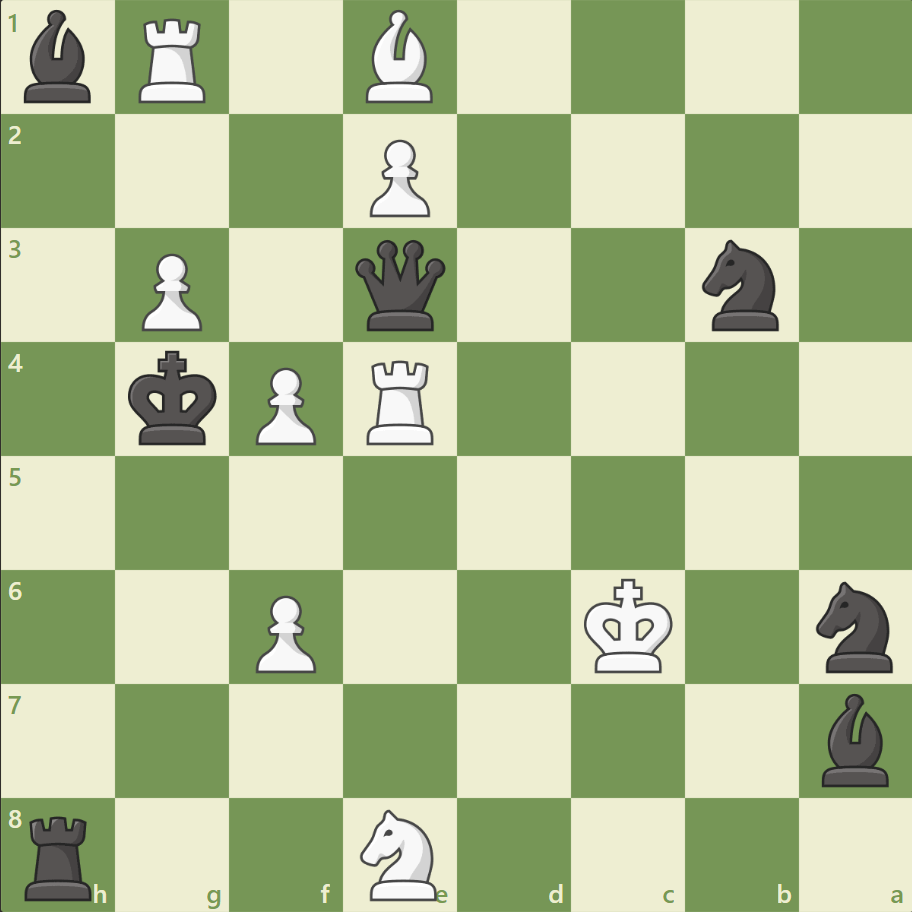B: (358, 6, 442, 109)
K: (579, 571, 679, 679)
N: (351, 802, 449, 904)
P: (247, 586, 322, 677), (247, 359, 322, 450), (133, 246, 208, 337), (361, 132, 435, 223)
R: (360, 352, 442, 449), (133, 12, 215, 109)
b: (812, 687, 896, 790), (17, 6, 101, 109)
k: (124, 344, 224, 452)
n: (692, 234, 789, 337), (806, 575, 903, 677)
q: (351, 236, 450, 335)
r: (19, 806, 102, 904)
